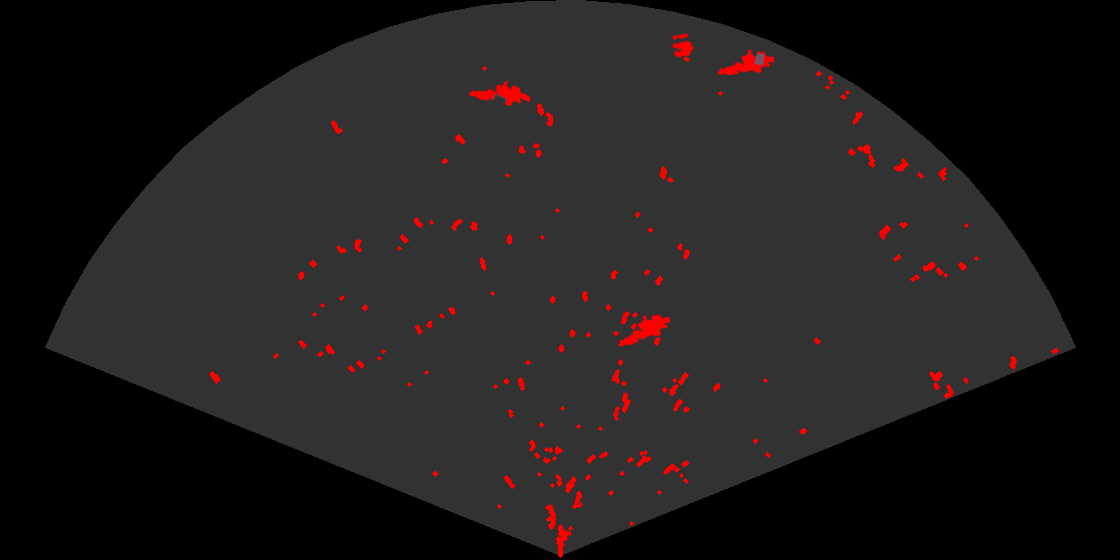ball: (670, 32, 696, 59)
frogman: (616, 312, 670, 348), (467, 79, 530, 108), (716, 47, 774, 77)
